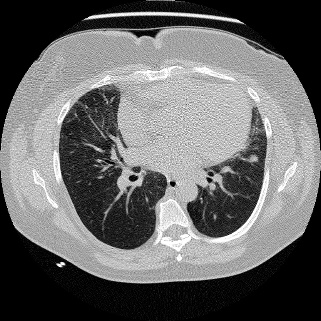PN: (251, 154, 259, 162)
